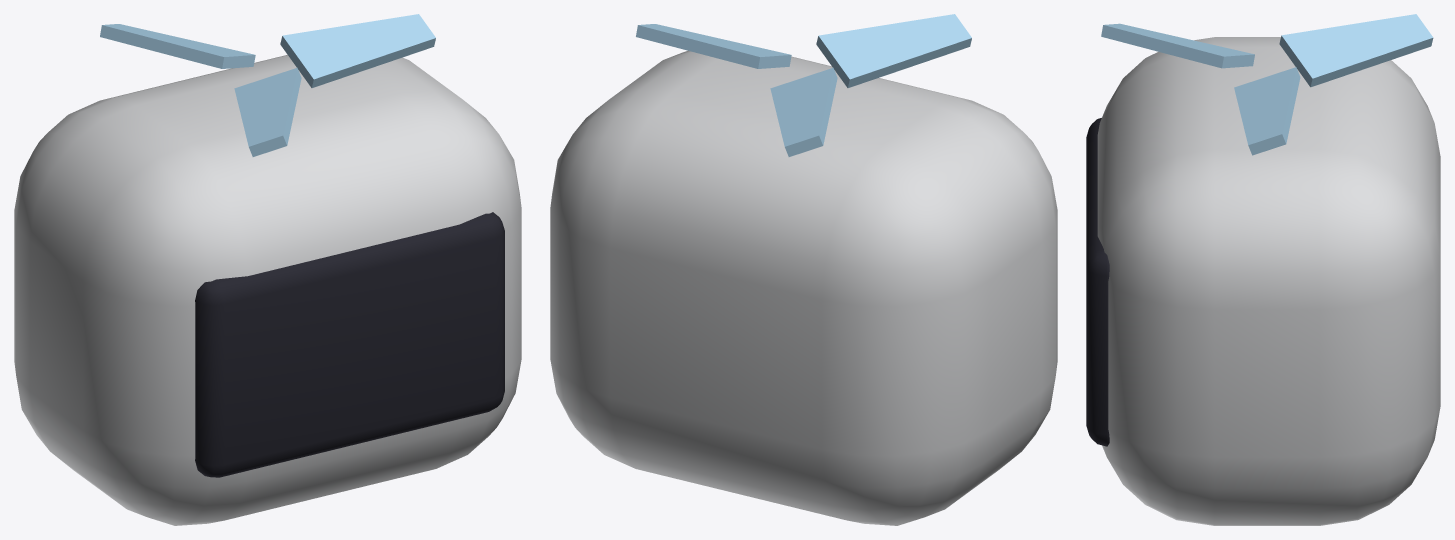
File: halo.glb
The picture shows the model from 3 angles, left to right: view 1: azimuth 30°, elevation 25°; view 2: azimuth 150°, elevation 25°; view 3: azimuth 270°, elevation 25°; orthographic projection.
Parts seen in each view (by area): view 1: HeadShell, FaceScreen, PropellerBlades; view 2: HeadShell, PropellerBlades; view 3: HeadShell, PropellerBlades, FaceScreen.
Boxes of the visible parts, x1,y1,x2,y2 form: HeadShell: (14, 55, 521, 525); FaceScreen: (195, 212, 504, 477); PropellerBlades: (100, 14, 435, 156); HeadShell: (550, 50, 1057, 525); PropellerBlades: (636, 14, 971, 156); HeadShell: (1097, 37, 1440, 525); PropellerBlades: (1101, 14, 1433, 155); FaceScreen: (1086, 118, 1109, 446).
Bounding box in the file's own units: 1.6 × 1.51 × 1.17.
